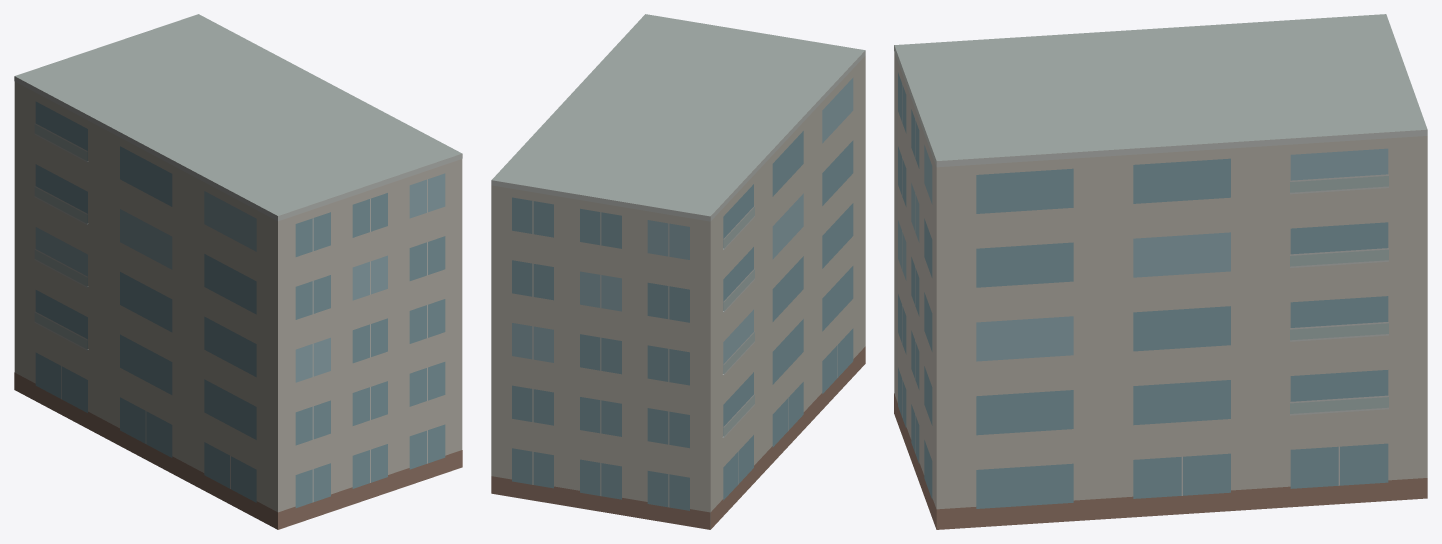
Rendered from survey-upis-32574446.glb.
3 renders of one model, left to right at view 1: azimuth 30°, elevation 25°; view 2: azimuth 150°, elevation 25°; view 3: azimuth 270°, elevation 25°, orthographic. The views are drawn at different scales.
Visible parts, largest first — view 1: survey-upis-32574446.tmp; view 2: survey-upis-32574446.tmp; view 3: survey-upis-32574446.tmp.
Boxes of the visible parts, x1,y1,x2,y2 form: survey-upis-32574446.tmp: (14, 14, 462, 529); survey-upis-32574446.tmp: (491, 14, 865, 529); survey-upis-32574446.tmp: (894, 14, 1427, 529).
Size of the model in its own units: 12.5 by 14.6 by 19.15.
